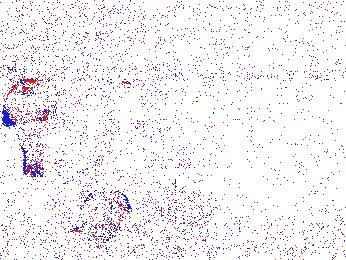flame jellyfish: (2, 81, 59, 178), (77, 186, 132, 243)
